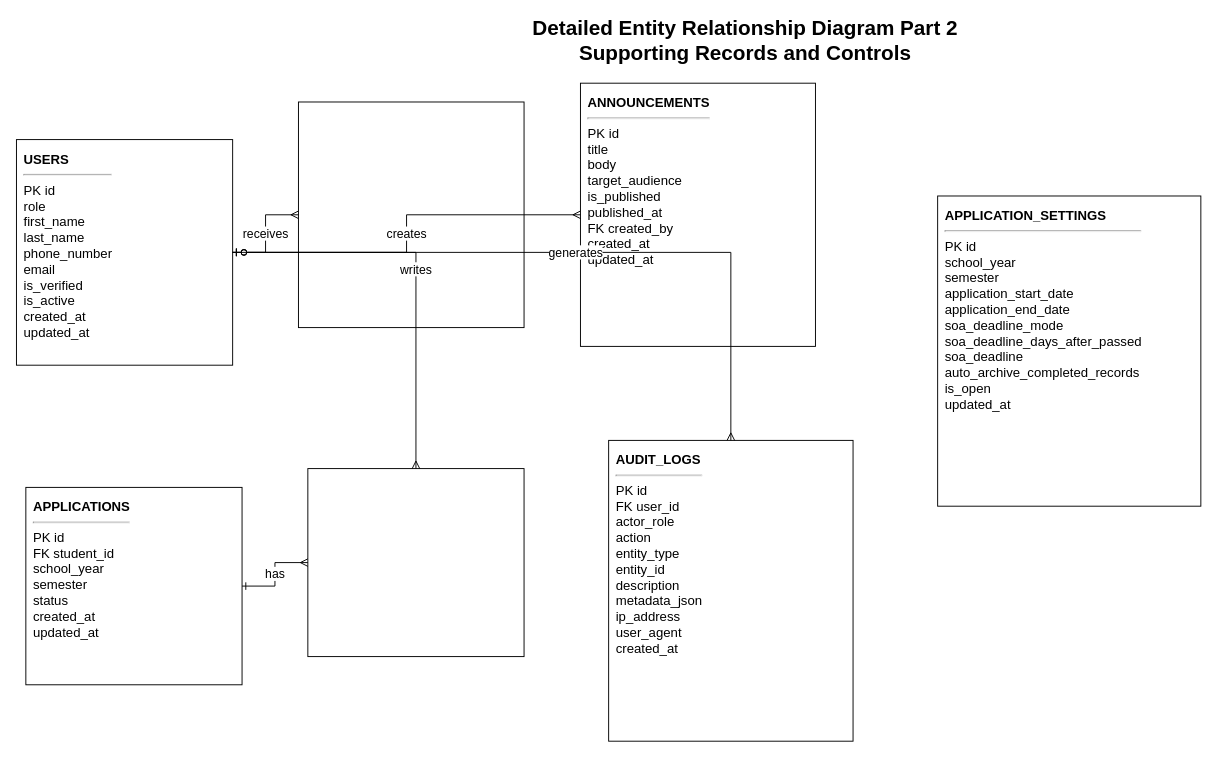
Some shapes in this 1217 by 758 pixel diagram are drawn without their labels. The shapes that lost their labels are listed below. From the top down, each one's box as (x1, y1, x2, y2) in pixels, then its label:
(298, 101, 524, 328): NOTIFICATIONS PK id FK user_id title message link_path is_read created_at
(307, 468, 524, 657): CASE_NOTES PK id FK application_id FK user_id note_text created_at
